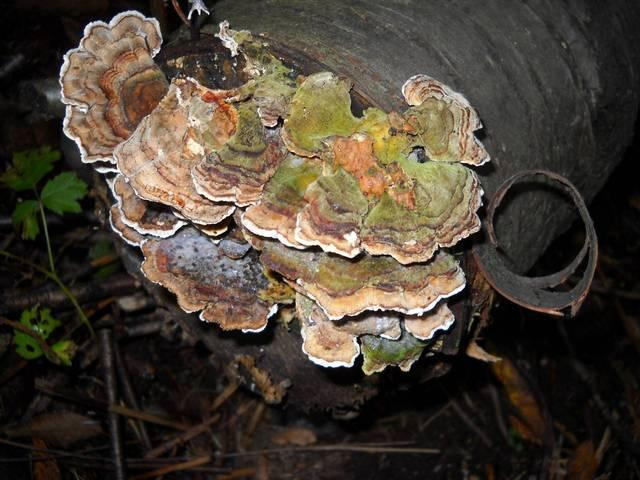Non-edible Mushroom: (55, 2, 634, 377), (470, 167, 599, 319)
